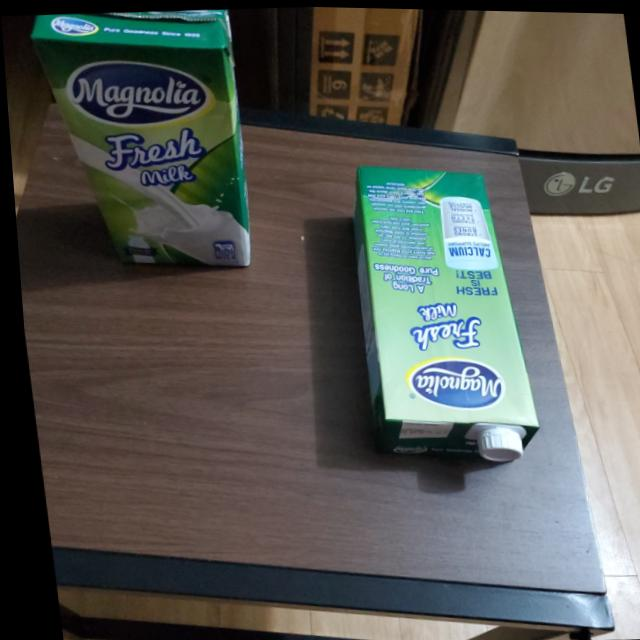milk: (26, 7, 260, 283), (336, 153, 539, 462)
